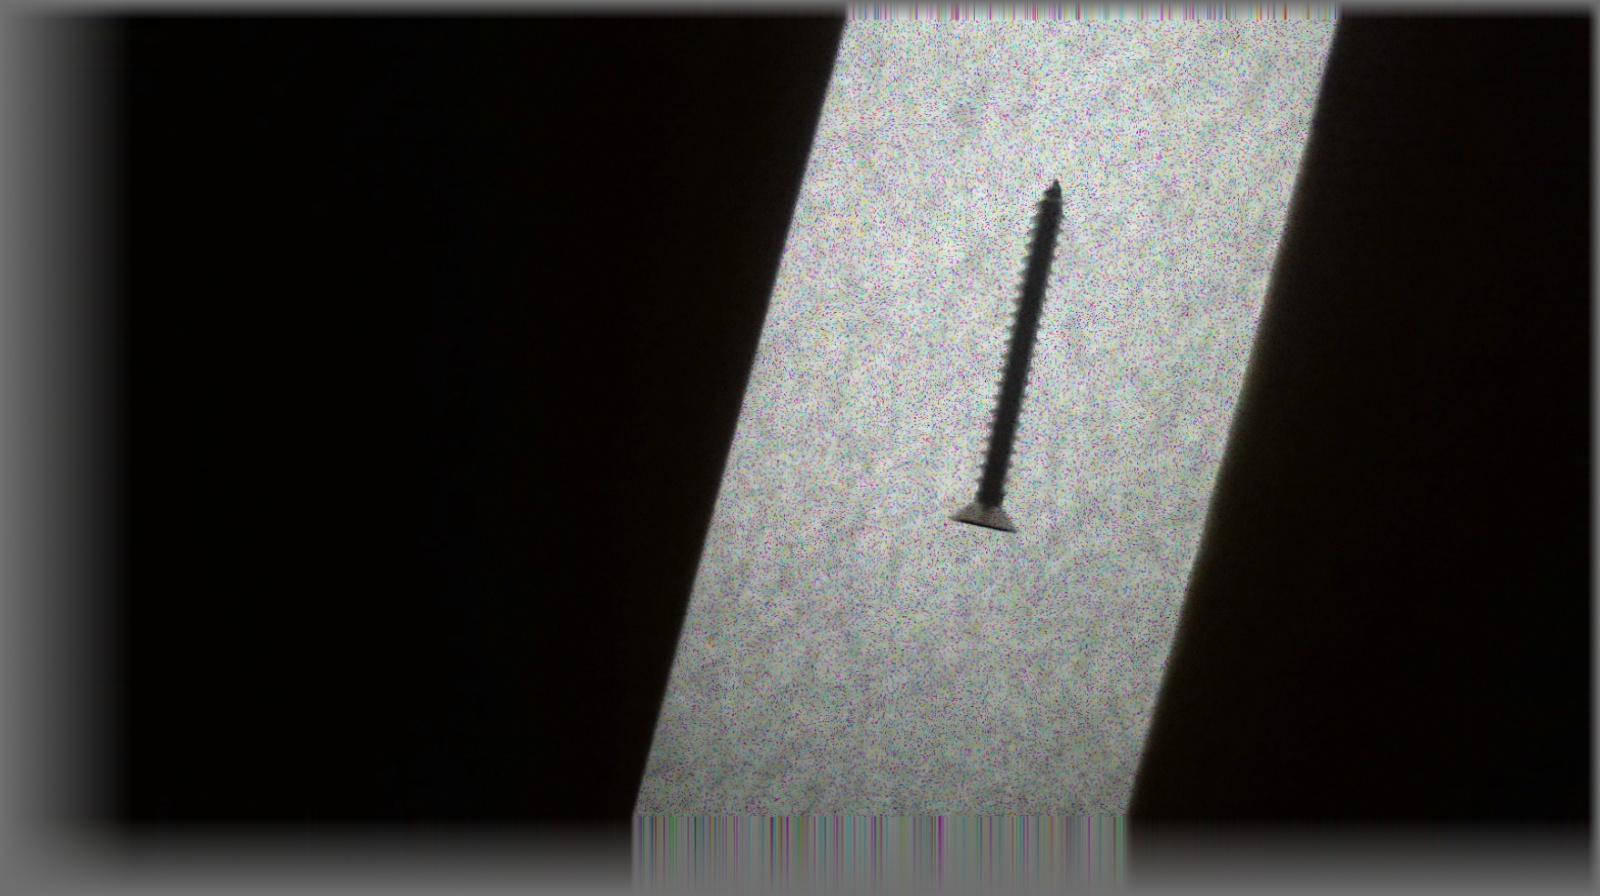S002: (931, 177, 1089, 547)
